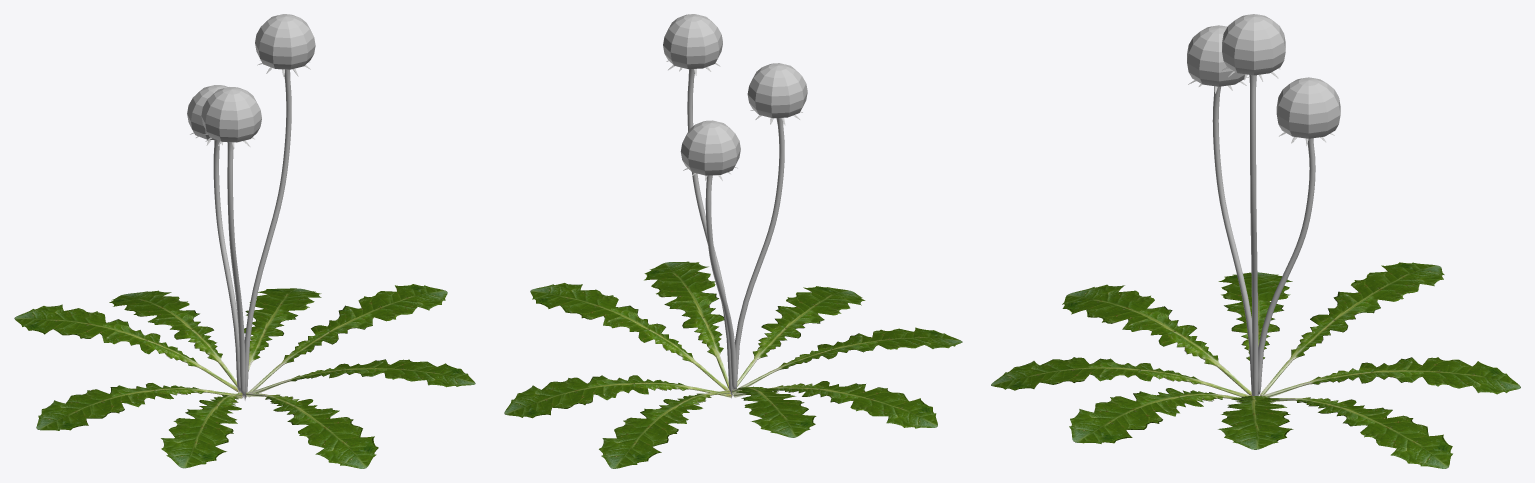
The model's file is dandelionSeedsLP.fbx.
3 renders of one model, left to right at view 1: azimuth 30°, elevation 25°; view 2: azimuth 150°, elevation 25°; view 3: azimuth 270°, elevation 25°, orthographic. The views are drawn at different scales.
Parts seen in each view (by area): view 1: pPlane11, pPlane12, pPlane14, pPlane17, pPlane13, pPlane10, pSphere9, pSphere11, pPlane16, pPlane15, pSphere5, pSphere4 (+2 smaller); view 2: pPlane12, pPlane16, pPlane10, pPlane15, pPlane13, pPlane11, pSphere10, pSphere11, pPlane17, pSphere9, pPlane14, pSphere4 (+2 smaller); view 3: pPlane17, pPlane14, pPlane15, pPlane16, pPlane10, pPlane11, pSphere10, pSphere9, pPlane12, pPlane13, pSphere5, pSphere11 (+2 smaller).
Boxes of the visible parts, x1,y1,x2,y2 form: pPlane11: (246, 392, 378, 468); pPlane12: (248, 284, 447, 392); pPlane14: (14, 304, 238, 391); pPlane17: (161, 392, 242, 468); pPlane13: (36, 383, 242, 430); pPlane10: (109, 290, 240, 391); pSphere9: (255, 14, 315, 69); pSphere11: (201, 87, 261, 142); pPlane16: (248, 359, 475, 397); pPlane15: (238, 288, 321, 392); pSphere5: (244, 60, 310, 400); pSphere4: (204, 133, 254, 398); pPlane12: (530, 283, 728, 390); pPlane16: (644, 261, 729, 389); pPlane10: (599, 390, 730, 468); pPlane15: (504, 375, 731, 418); pPlane13: (733, 381, 937, 428); pPlane11: (737, 286, 865, 387); pSphere10: (680, 120, 740, 175); pSphere11: (747, 63, 807, 118); pPlane17: (738, 327, 962, 390); pSphere9: (663, 14, 722, 69); pPlane14: (732, 386, 816, 437); pSphere4: (735, 110, 802, 388); pPlane17: (1062, 284, 1251, 395); pPlane14: (1260, 262, 1444, 395); pPlane15: (1270, 397, 1452, 468); pPlane16: (1069, 388, 1240, 443); pPlane10: (1261, 357, 1520, 397); pPlane11: (991, 357, 1250, 397); pSphere10: (1276, 77, 1340, 138); pSphere9: (1222, 14, 1285, 75); pPlane12: (1218, 396, 1293, 449); pPlane13: (1218, 272, 1292, 360); pSphere5: (1222, 67, 1280, 395); pSphere11: (1187, 25, 1244, 86).
Size of the model in its own units: 307 by 270 by 313.
